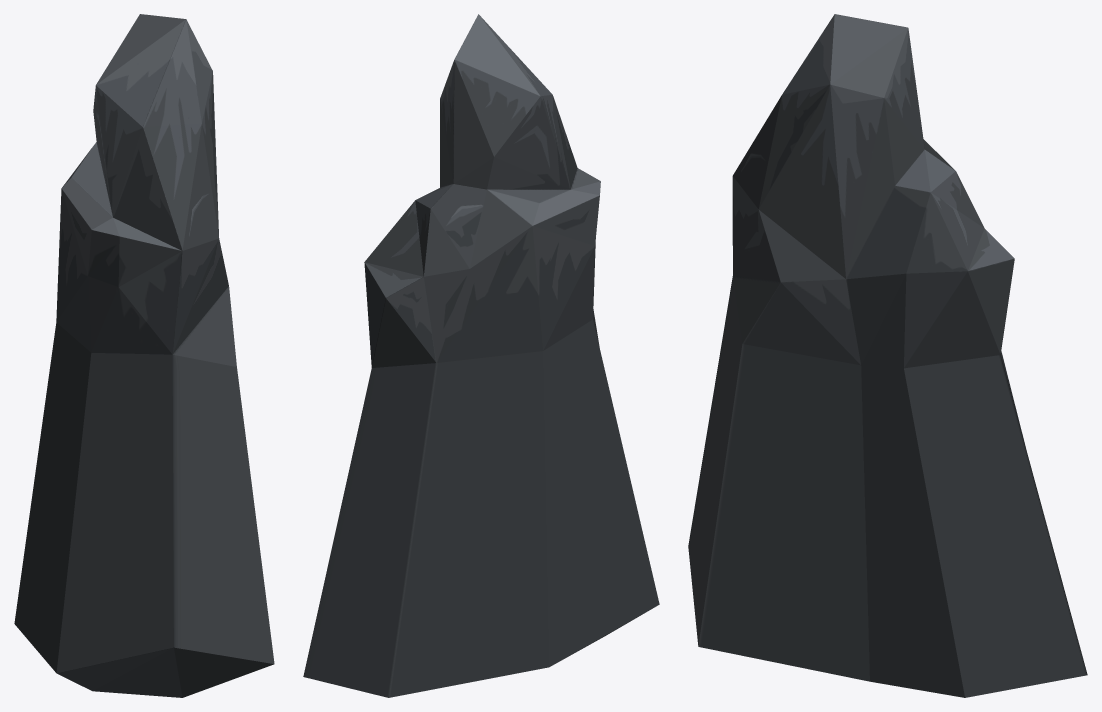
Rendered from rock 2.fbx.
The picture shows the model from 3 angles, left to right: view 1: azimuth 30°, elevation 25°; view 2: azimuth 150°, elevation 25°; view 3: azimuth 270°, elevation 25°; orthographic projection. The views are drawn at different scales.
Parts seen in each view (by area): view 1: rock 2; view 2: rock 2; view 3: rock 2.
Part boxes in pixels (x1,y1,x2,y2): rock 2: (14,14,274,697); rock 2: (303,14,659,697); rock 2: (688,14,1087,697).
Size of the model in its own units: 581 by 1398 by 764.
Materials: 1 (1 with a texture image).
